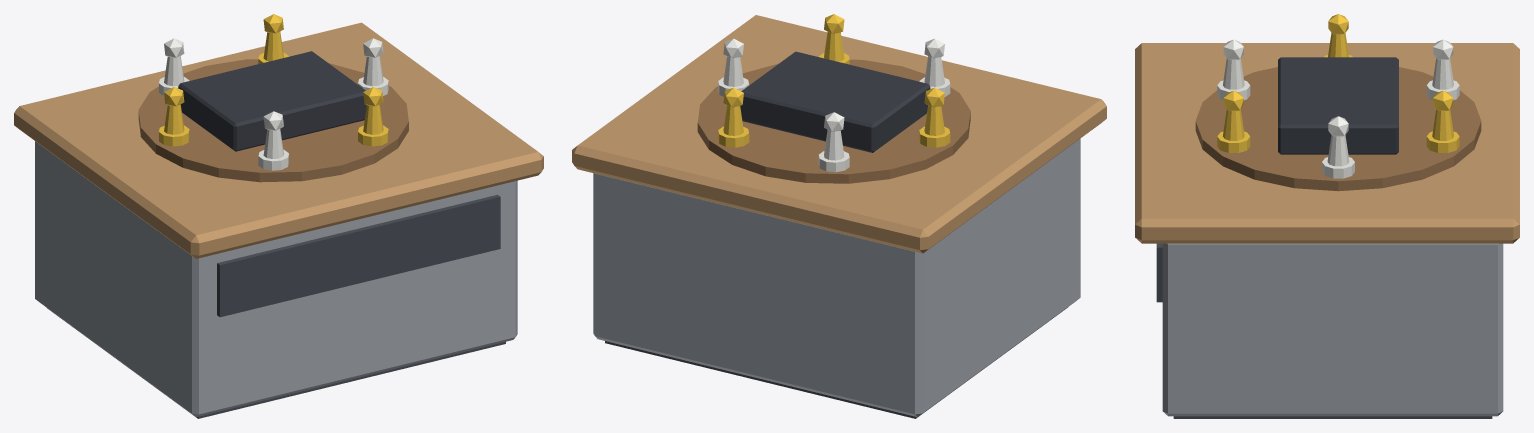
File: delegation_p0_3.glb
3 views of the same model, side by side, from view 1: azimuth 30°, elevation 25°; view 2: azimuth 150°, elevation 25°; view 3: azimuth 270°, elevation 25° (orthographic). The views are drawn at different scales.
Visible parts, largest first — view 1: delegation_p0_3_mesh_Desk, delegation_p0_3_mesh; view 2: delegation_p0_3_mesh_Desk, delegation_p0_3_mesh; view 3: delegation_p0_3_mesh_Desk, delegation_p0_3_mesh.
Part boxes in pixels (x1,y1,x2,y2): delegation_p0_3_mesh_Desk: (14,22,543,418); delegation_p0_3_mesh: (138,14,408,182); delegation_p0_3_mesh_Desk: (572,15,1106,418); delegation_p0_3_mesh: (697,14,970,183); delegation_p0_3_mesh_Desk: (1135,43,1519,418); delegation_p0_3_mesh: (1195,14,1481,191).
Size of the model in its own units: 0.78 by 0.552 by 0.7.
